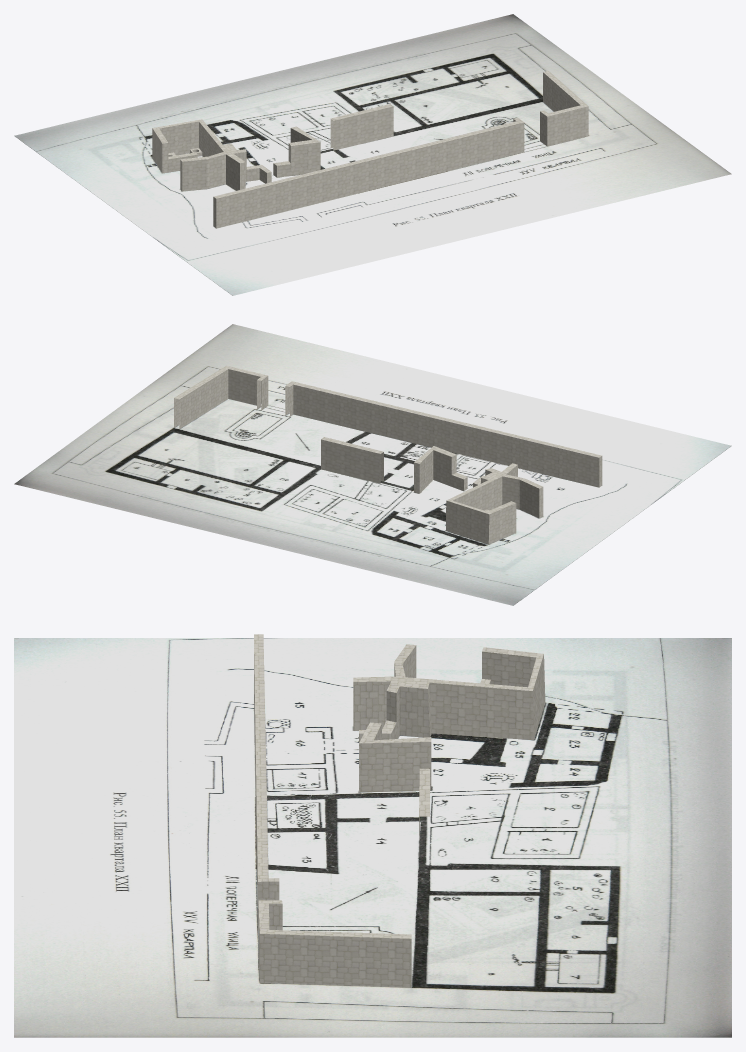
The model's file is D22-Ground.fbx.
3 views of the same model, one above another, from view 1: azimuth 30°, elevation 25°; view 2: azimuth 150°, elevation 25°; view 3: azimuth 270°, elevation 25° (orthographic). The views are drawn at different scales.
Visible parts, largest first — view 1: GroundPlan, Walls; view 2: GroundPlan, Walls; view 3: GroundPlan, Walls.
Part boxes in pixels (<box>): GroundPlan: <box>14,14,731,295</box>; Walls: <box>152,71,588,228</box>; GroundPlan: <box>14,324,731,605</box>; Walls: <box>174,365,602,544</box>; GroundPlan: <box>14,638,731,1037</box>; Walls: <box>254,634,545,987</box>.
Size of the model in its own units: 4394 by 655 by 3335.
